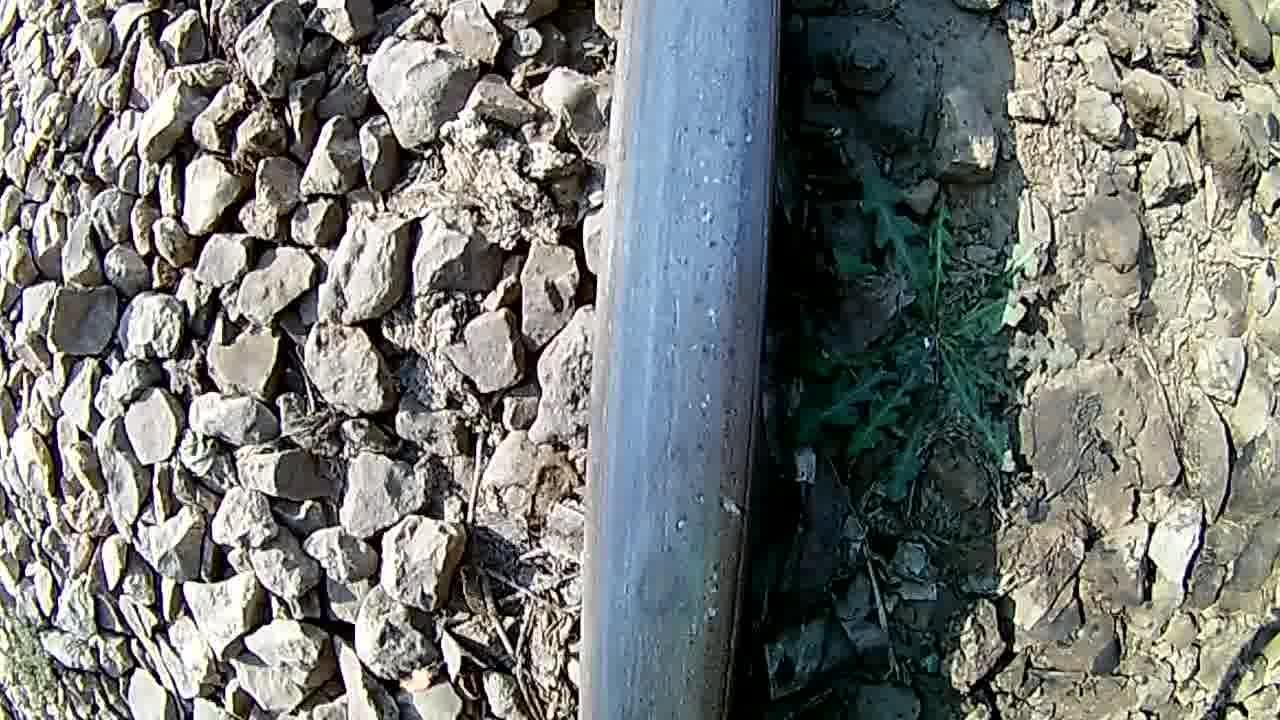crack: (603, 483, 727, 695)
